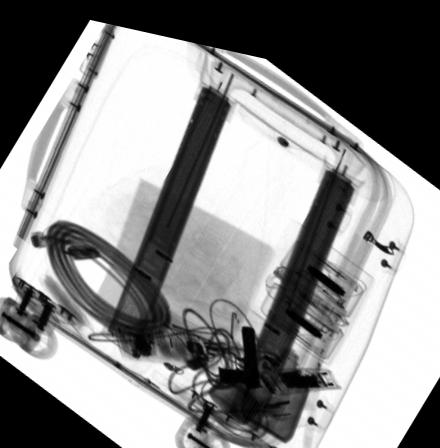Gun: (218, 311, 263, 379)
